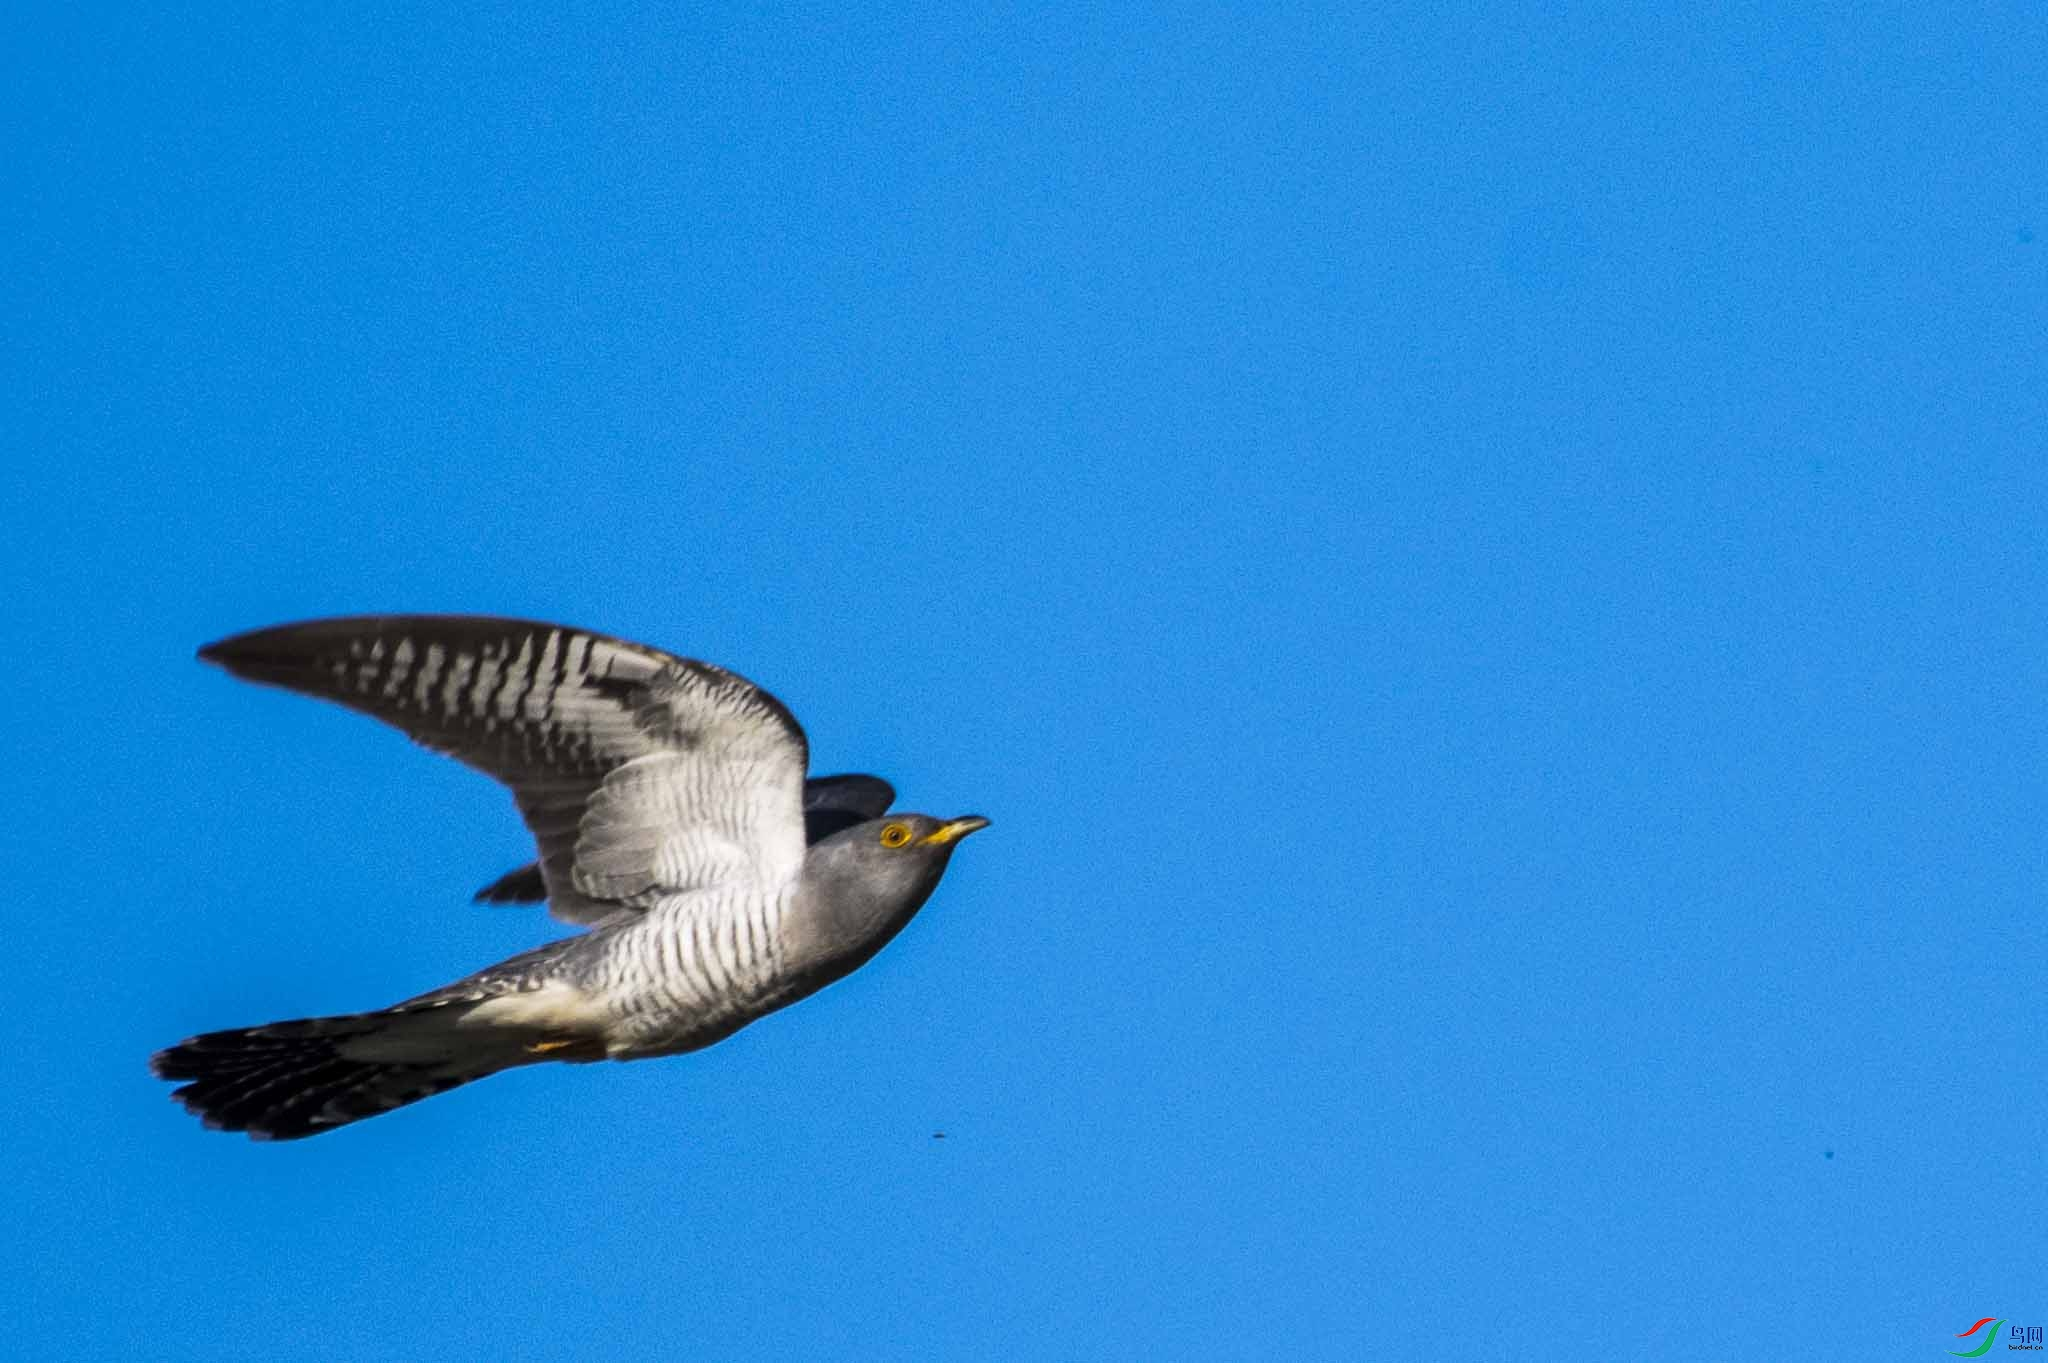bird: (137, 601, 991, 1156)
